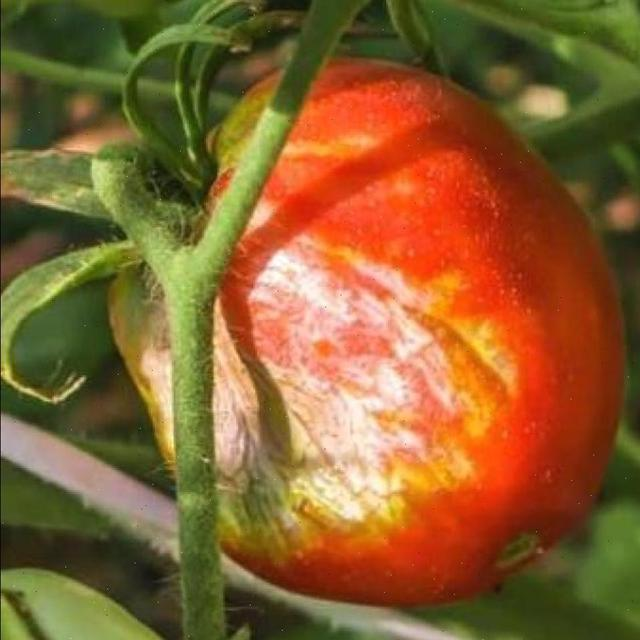Sunscald Fruit: (105, 130, 326, 370)
